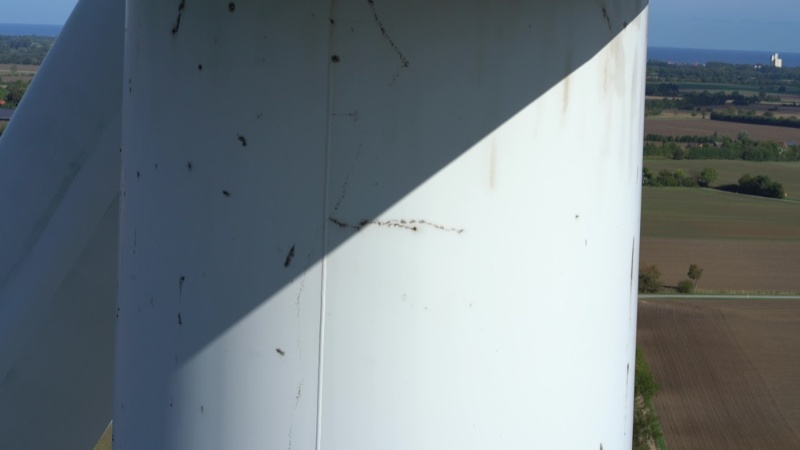weldseam: (313, 8, 350, 450)
